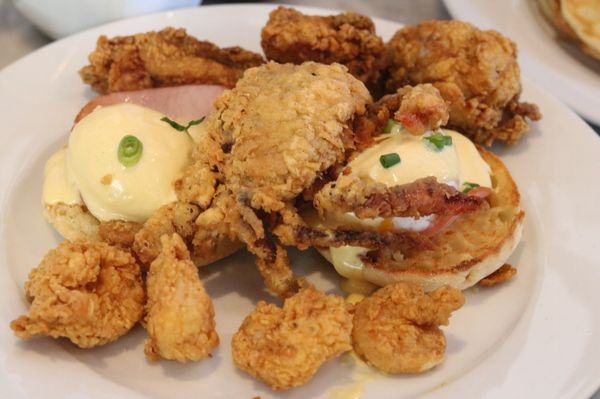pasta: (65, 98, 199, 225)
